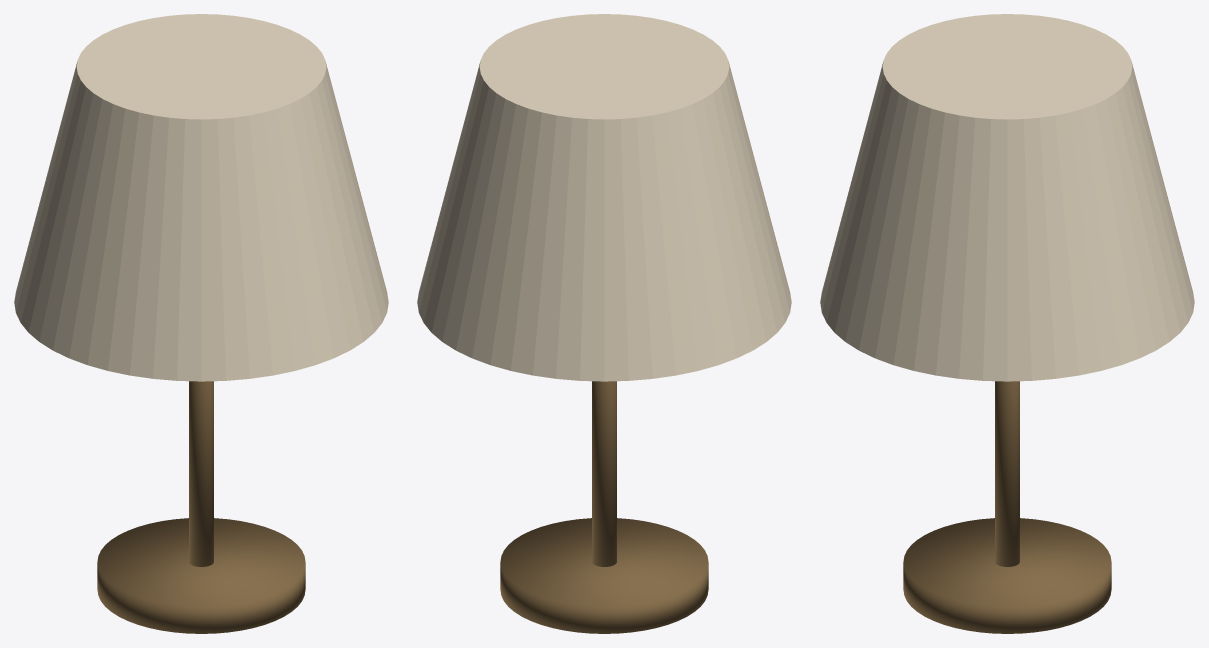
File: bedside-lamp.glb
The picture shows the model from 3 angles, left to right: view 1: azimuth 30°, elevation 25°; view 2: azimuth 150°, elevation 25°; view 3: azimuth 270°, elevation 25°; orthographic projection.
Visible parts, largest first — view 1: Base; view 2: Base; view 3: Base.
Part boxes in pixels (left/top/right/bottom): Base: left=14, top=14, right=388, bottom=633; Base: left=417, top=14, right=791, bottom=633; Base: left=820, top=14, right=1194, bottom=633.
Size of the model in its own units: 0.36 by 0.555 by 0.36.
